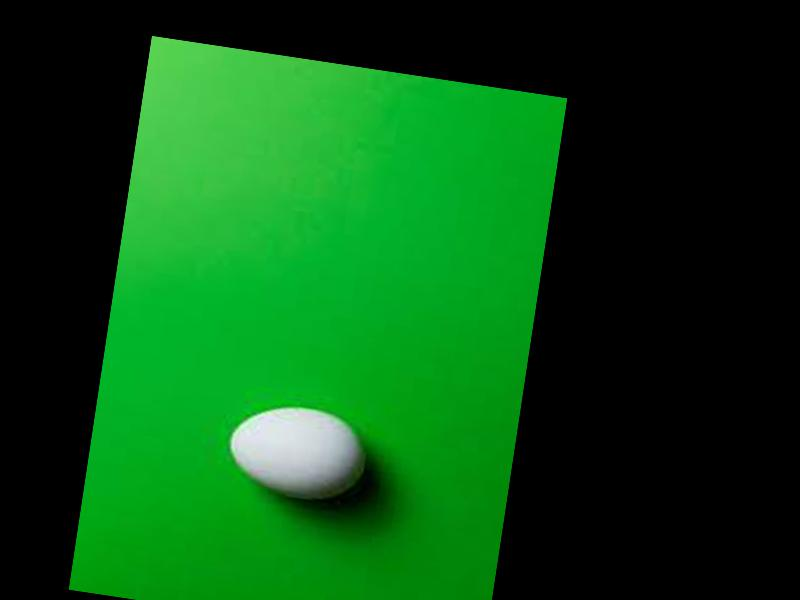Eggs: (223, 399, 371, 506)
